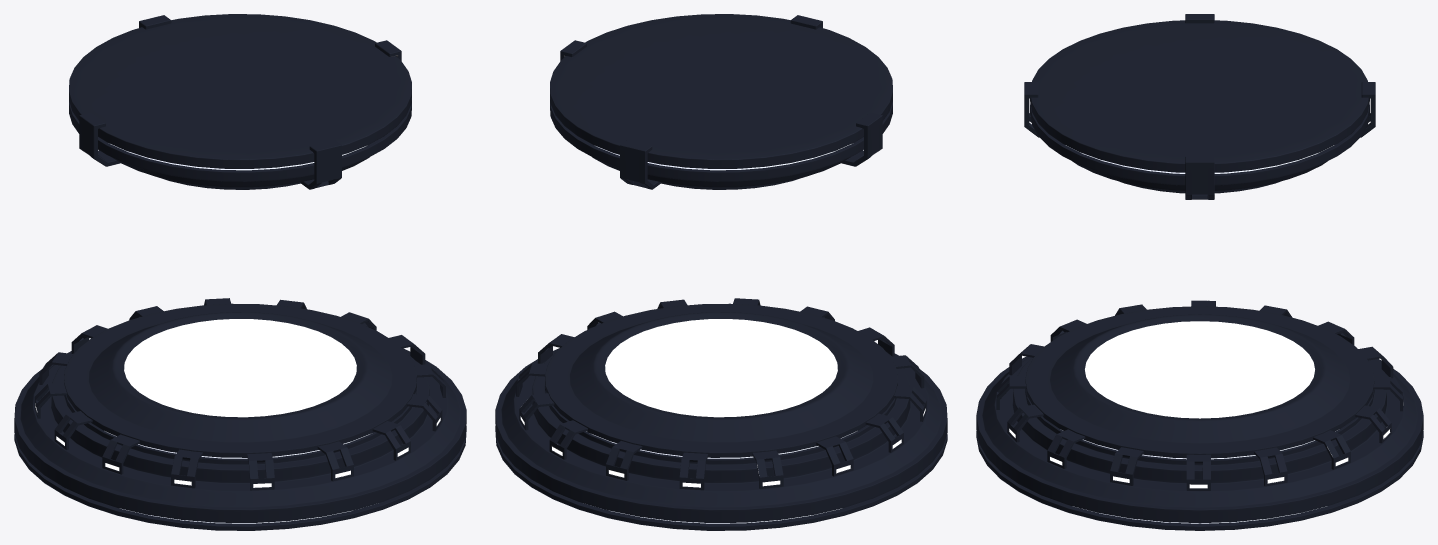
Rendered from projector.glb.
3 views of the same model, side by side, from view 1: azimuth 30°, elevation 25°; view 2: azimuth 150°, elevation 25°; view 3: azimuth 270°, elevation 25° (orthographic).
Visible parts, largest first — view 1: polySurface37, pCylinder14, pCylinder15, pPlane17, pPlane20, pPlane15, pPlane16, pPlane1, pPlane14, pPlane2, pPlane13, pPlane3; view 2: polySurface37, pCylinder14, pCylinder15, pPlane19, pPlane20, pPlane11, pPlane10, pPlane9, pPlane12, pPlane8, pPlane13, pPlane7 (+1 smaller); view 3: polySurface37, pCylinder14, pCylinder15, pPlane18, pPlane4, pPlane6, pPlane5, pPlane7, pPlane3, pPlane2, pPlane8.
Part boxes in pixels (<box>): polySurface37: <box>14,303,466,530</box>; pCylinder14: <box>69,14,411,187</box>; pCylinder15: <box>124,319,356,417</box>; pPlane17: <box>301,140,341,189</box>; pPlane20: <box>79,112,120,166</box>; pPlane15: <box>171,449,202,488</box>; pPlane16: <box>247,453,274,490</box>; pPlane1: <box>317,441,353,481</box>; pPlane14: <box>102,434,139,474</box>; pPlane2: <box>372,421,410,460</box>; pPlane13: <box>54,411,92,449</box>; pPlane3: <box>407,394,442,431</box>; polySurface37: <box>495,303,947,530</box>; pCylinder14: <box>550,14,892,187</box>; pCylinder15: <box>605,319,837,417</box>; pPlane19: <box>620,140,660,189</box>; pPlane20: <box>841,112,882,166</box>; pPlane11: <box>752,450,783,488</box>; pPlane10: <box>679,452,708,490</box>; pPlane9: <box>606,441,642,480</box>; pPlane12: <box>816,436,853,476</box>; pPlane8: <box>549,420,587,459</box>; pPlane13: <box>865,413,903,452</box>; pPlane7: <box>519,393,554,430</box>; polySurface37: <box>976,306,1423,530</box>; pCylinder14: <box>1030,20,1369,190</box>; pCylinder15: <box>1085,321,1314,418</box>; pPlane18: <box>1185,156,1214,199</box>; pPlane4: <box>1110,447,1143,485</box>; pPlane6: <box>1254,447,1287,486</box>; pPlane5: <box>1186,454,1210,490</box>; pPlane7: <box>1313,430,1350,469</box>; pPlane3: <box>1047,429,1085,468</box>; pPlane2: <box>1007,404,1043,442</box>; pPlane8: <box>1355,405,1391,443</box>.
Size of the model in its own units: 15.61 by 13.42 by 15.61.
Materials: 1 (1 with a texture image).
